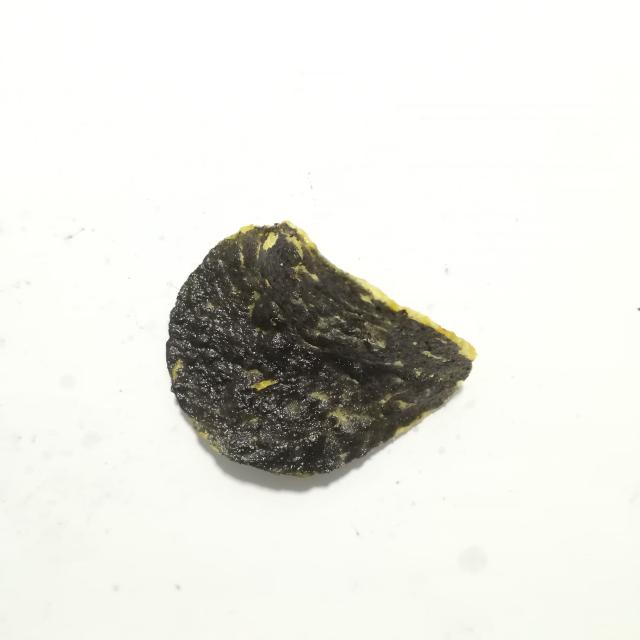chip: (166, 222, 476, 474)
damaged: (166, 223, 471, 474)
